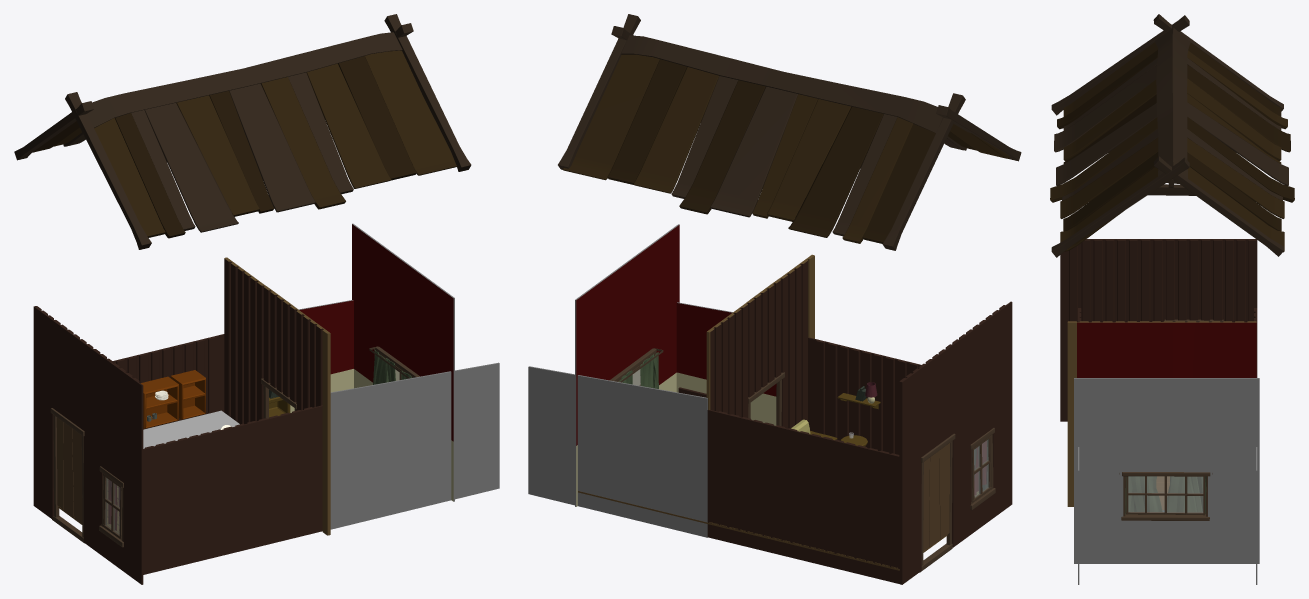
The model's file is Inside_Cabin_TryOut.fbx.
3 renders of one model, left to right at view 1: azimuth 30°, elevation 25°; view 2: azimuth 150°, elevation 25°; view 3: azimuth 270°, elevation 25°, orthographic. The views are drawn at different scales.
Parts seen in each view (by area): view 1: Roof, polySurface159, pCube57, pCube63, polySurface50, pCube47, polySurface156, polySurface53, pCube23, pCube24, polySurface151, Cabin4:Window2 (+1 smaller); view 2: Roof, polySurface159, pCube47, pCube63, polySurface50, pCube57, polySurface156, polySurface151, Cabin4:Window2, pCube49, polySurface1; view 3: Roof, polySurface159, pCube63, polySurface50, Window3, polySurface1, polySurface78.
Part boxes in pixels (box(x1,y1,x2,y2)): Roof: box(14, 14, 471, 249); polySurface159: box(290, 223, 499, 529); pCube57: box(143, 405, 322, 574); pCube63: box(33, 306, 143, 584); polySurface50: box(224, 257, 330, 535); pCube47: box(113, 334, 224, 429); polySurface156: box(56, 417, 82, 523); polySurface53: box(143, 410, 239, 448); pCube23: box(141, 376, 178, 428); pCube24: box(170, 370, 205, 419); polySurface151: box(50, 408, 84, 543); Cabin4:Window2: box(103, 474, 122, 539); Roof: box(558, 14, 1021, 250); polySurface159: box(528, 224, 776, 537); pCube47: box(707, 409, 899, 583); pCube63: box(899, 301, 1012, 584); polySurface50: box(706, 254, 814, 428); pCube57: box(808, 337, 987, 490); polySurface156: box(923, 443, 949, 550); polySurface151: box(919, 433, 955, 572); Cabin4:Window2: box(972, 436, 991, 502); pCube49: box(578, 491, 978, 570); polySurface1: box(618, 348, 663, 388); Roof: box(1050, 14, 1294, 257); polySurface159: box(1074, 378, 1259, 584); pCube63: box(1060, 239, 1257, 421); polySurface50: box(1067, 321, 1256, 506); Window3: box(1126, 476, 1205, 515); polySurface1: box(1119, 473, 1212, 514); polySurface78: box(1121, 472, 1210, 520).
Bounding box in the file's own units: 274 × 313 × 170.
